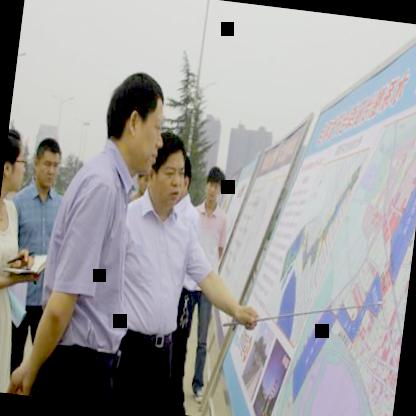head: (96, 66, 171, 176), (146, 132, 194, 213), (29, 132, 66, 194), (0, 123, 30, 195), (199, 162, 228, 212)
